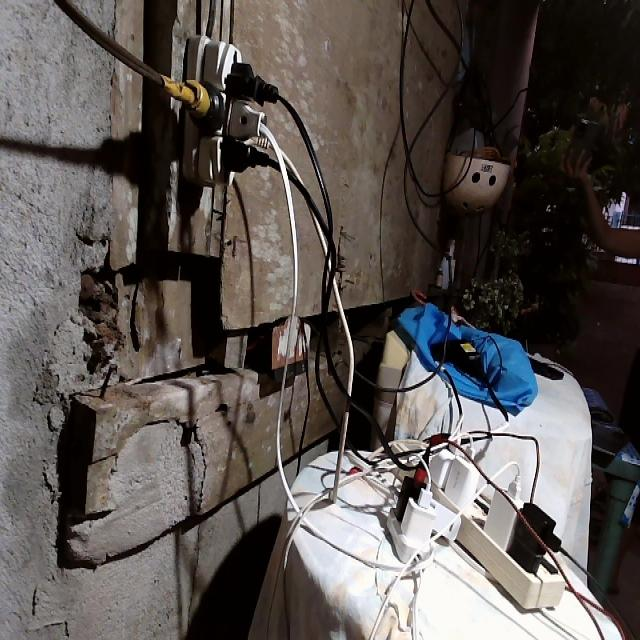-: (165, 34, 282, 185)
